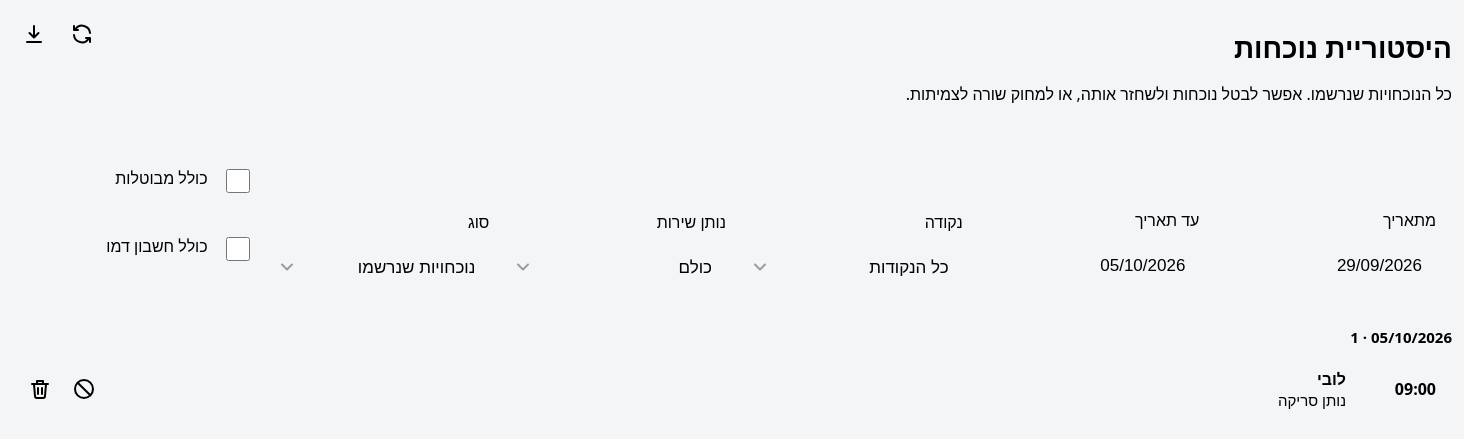
Test: a row of a visit that was not counted › shows a neutral badge "סיבה אחרת" for a code that this screen does not know, and does not break
Check: the text "נותן סריקה" is shown, box [1278,390,1346,410]
Select "לא נקלטו" in the dropdown labelled "סוג". click: {"x": 377, "y": 267}
box: [265,241,489,293]
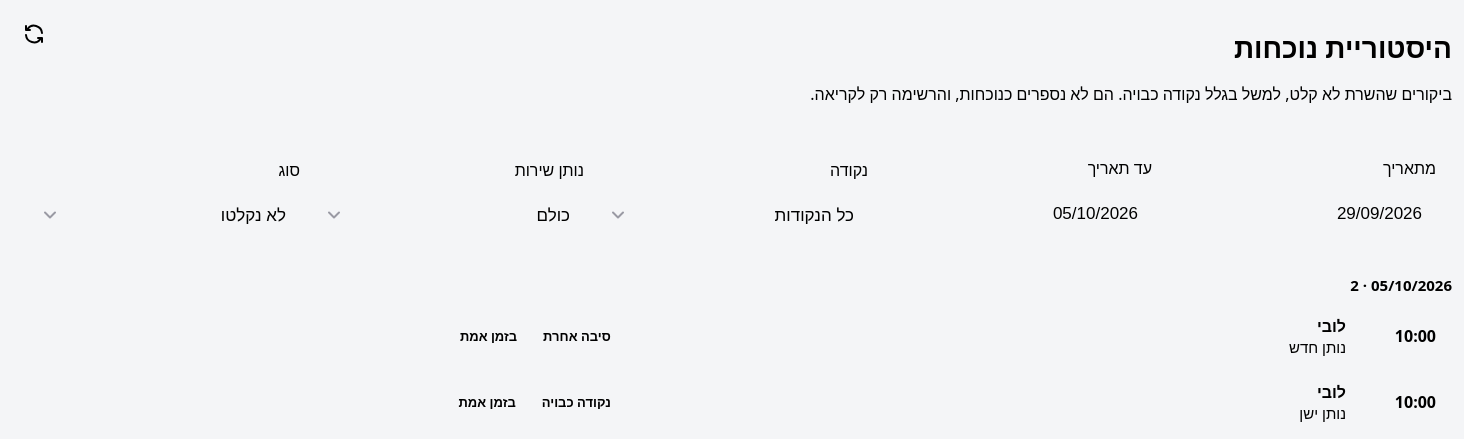
Check: the text "נקודה כבויה" is shown, box [542,393,611,411]
